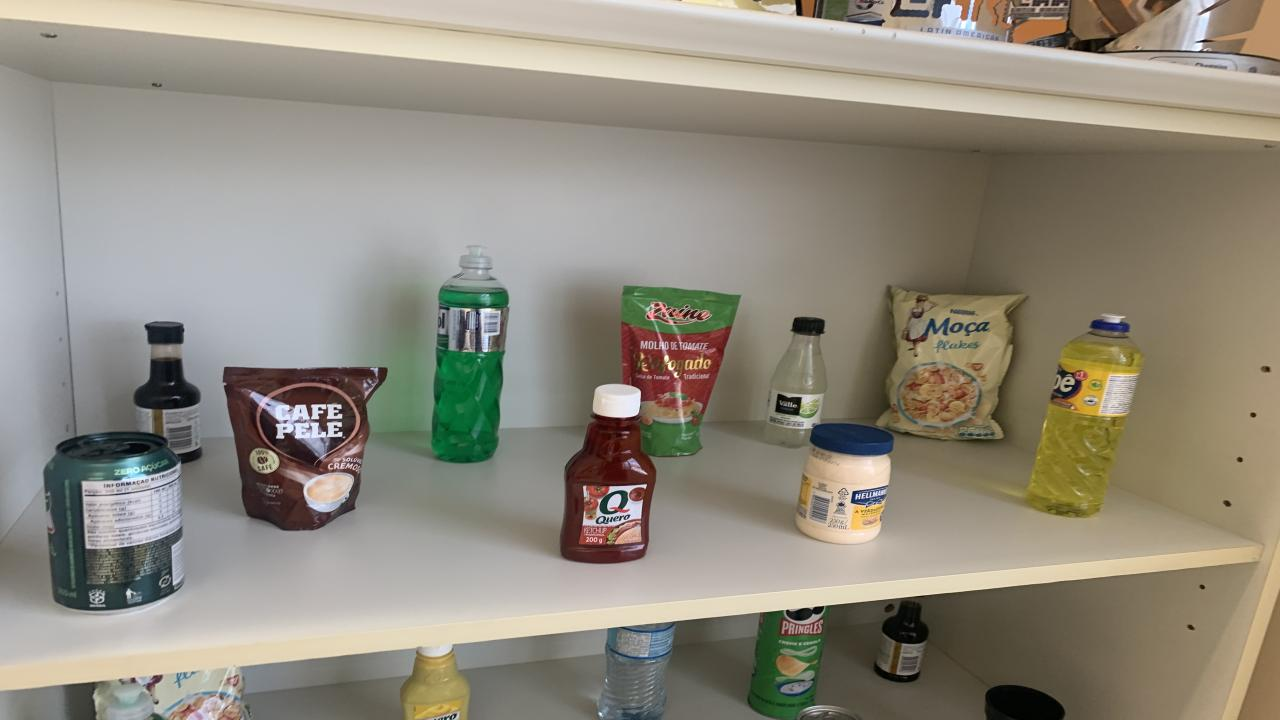Coffee-Pantry_Items: (222, 368, 388, 531)
Detergent-Cleanup_Items: (1028, 315, 1142, 518), (432, 246, 510, 463), (105, 684, 152, 720)
English_Sauce-Pantry_Items: (135, 322, 202, 463), (875, 600, 928, 682), (458, 386, 460, 390)
Flakes-Snacks: (878, 287, 1025, 441), (95, 668, 250, 720)
Guarana_Can-Drinks: (45, 431, 185, 613)
Ketchup-Pantry_Items: (560, 384, 655, 562)
Mayonnaise-Pantry_Items: (795, 424, 895, 544)
Mustard-Pantry_Items: (400, 645, 470, 720)
Pringles-Snacks: (748, 606, 830, 718)
Soda-Drinks: (765, 317, 828, 448)
Tea-Drinks: (798, 705, 860, 720)
Tomato_Sauce-Pantry_Items: (622, 287, 740, 456)
Water_Bottle-Drinks: (598, 622, 675, 720)
